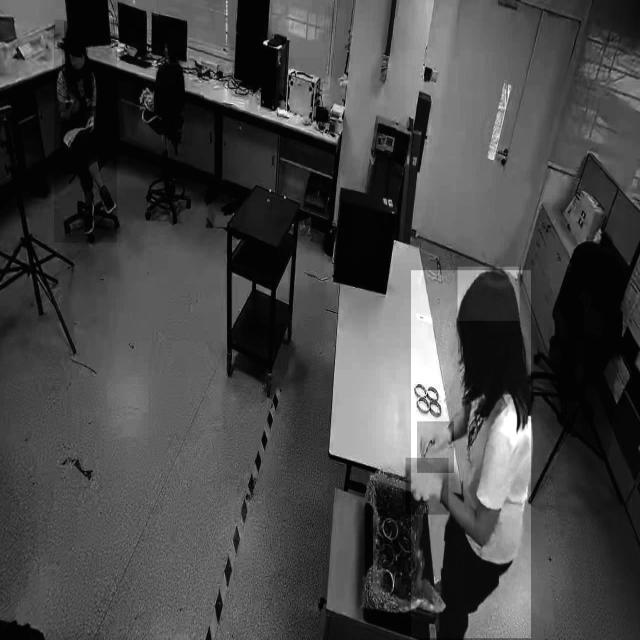face_mask: (62, 38, 88, 80)
hand_glove: (405, 458, 449, 516), (417, 421, 454, 473)
hand_noglove: (86, 111, 94, 133)
head_nohelmet: (458, 266, 520, 322), (64, 21, 86, 42)
person: (411, 270, 531, 639), (54, 20, 118, 244)
shoes: (80, 187, 98, 237), (96, 178, 118, 218)
